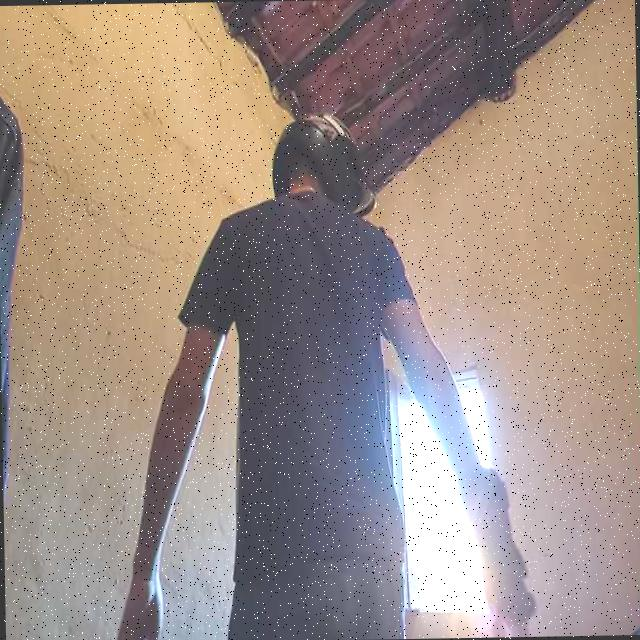capacete: (269, 105, 378, 224)
pessoa: (123, 159, 497, 640)
